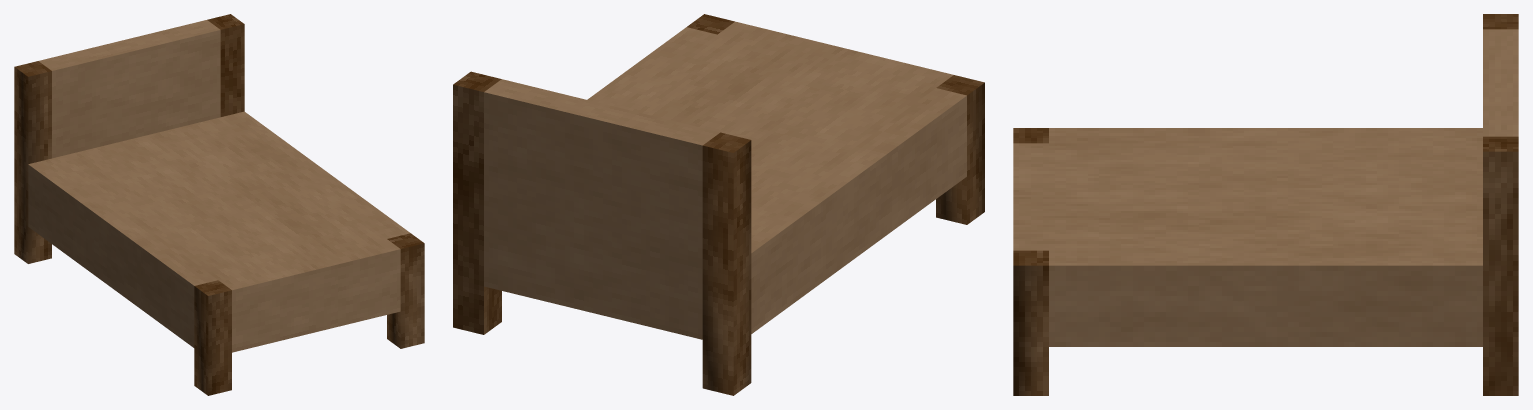
File: WoodenBed.glb
The picture shows the model from 3 angles, left to right: view 1: azimuth 30°, elevation 25°; view 2: azimuth 150°, elevation 25°; view 3: azimuth 270°, elevation 25°; orthographic projection. The views are drawn at different scales.
Visible parts, largest first — view 1: Cube; view 2: Cube; view 3: Cube.
Boxes of the visible parts, box(x1,y1,x2,y2) form: Cube: box(14, 14, 424, 395); Cube: box(453, 14, 984, 395); Cube: box(1013, 14, 1518, 395).
Size of the model in its own units: 1.81 by 1.5 by 2.81.
Materials: 2 (2 with a texture image).
